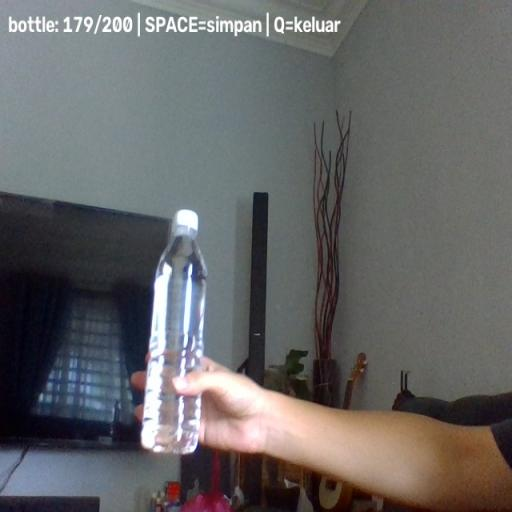Bottle: (142, 209, 208, 454)
